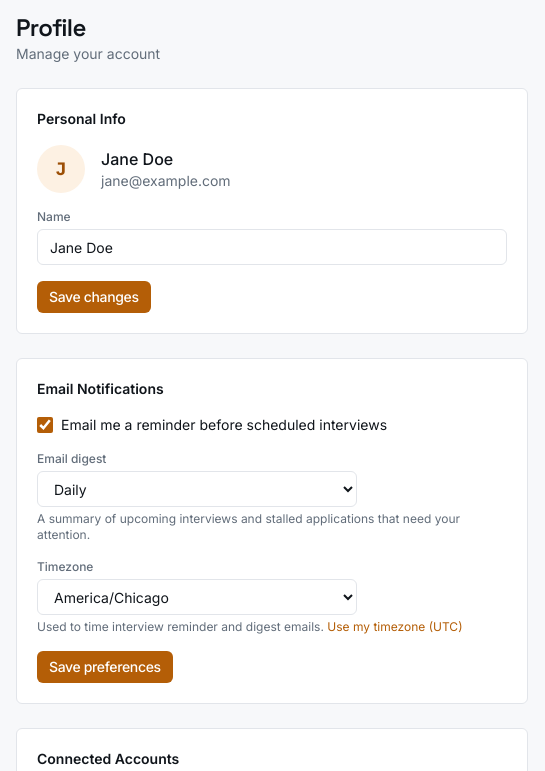
it: ProfilePage › personal info › shows a required error and never patches on a blank name
Step 1. Clear the field labelled "Name" → (272,247), box [37,229,507,265]
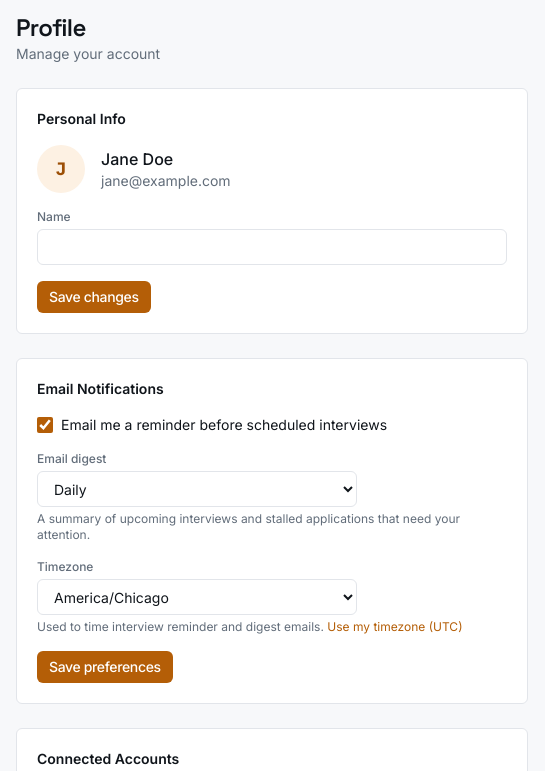
Step 2. Click the button "Save changes" → (94,297), box [37,281,151,313]
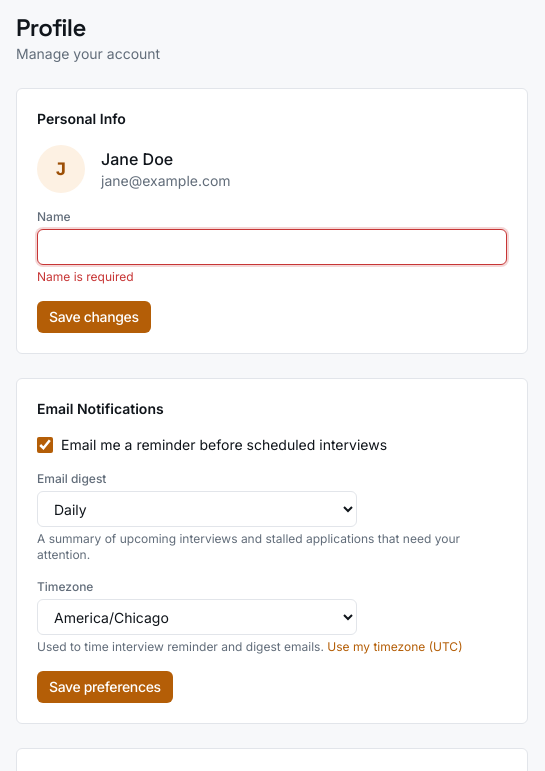
Expected: the text "Name is required" is shown, [37,269,134,284]
